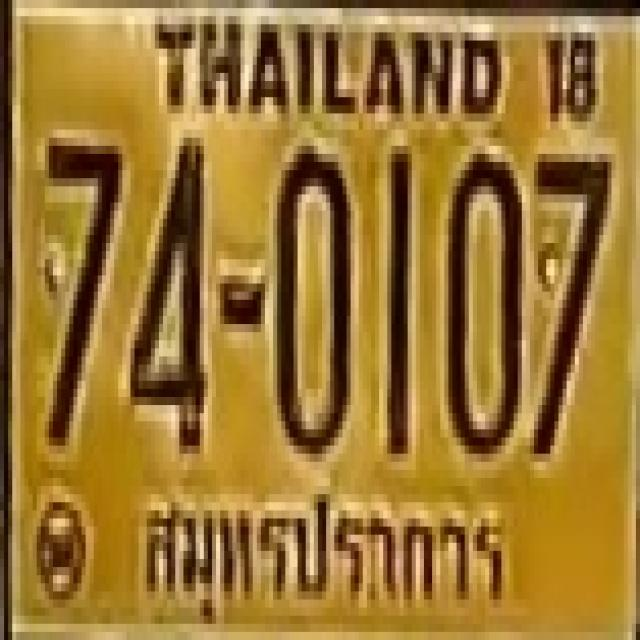0: (273, 142, 347, 450), (444, 146, 518, 445)
1: (383, 142, 408, 450)
4: (126, 130, 204, 446)
7: (530, 150, 607, 449), (45, 138, 118, 437)
SPK: (138, 490, 523, 631)
